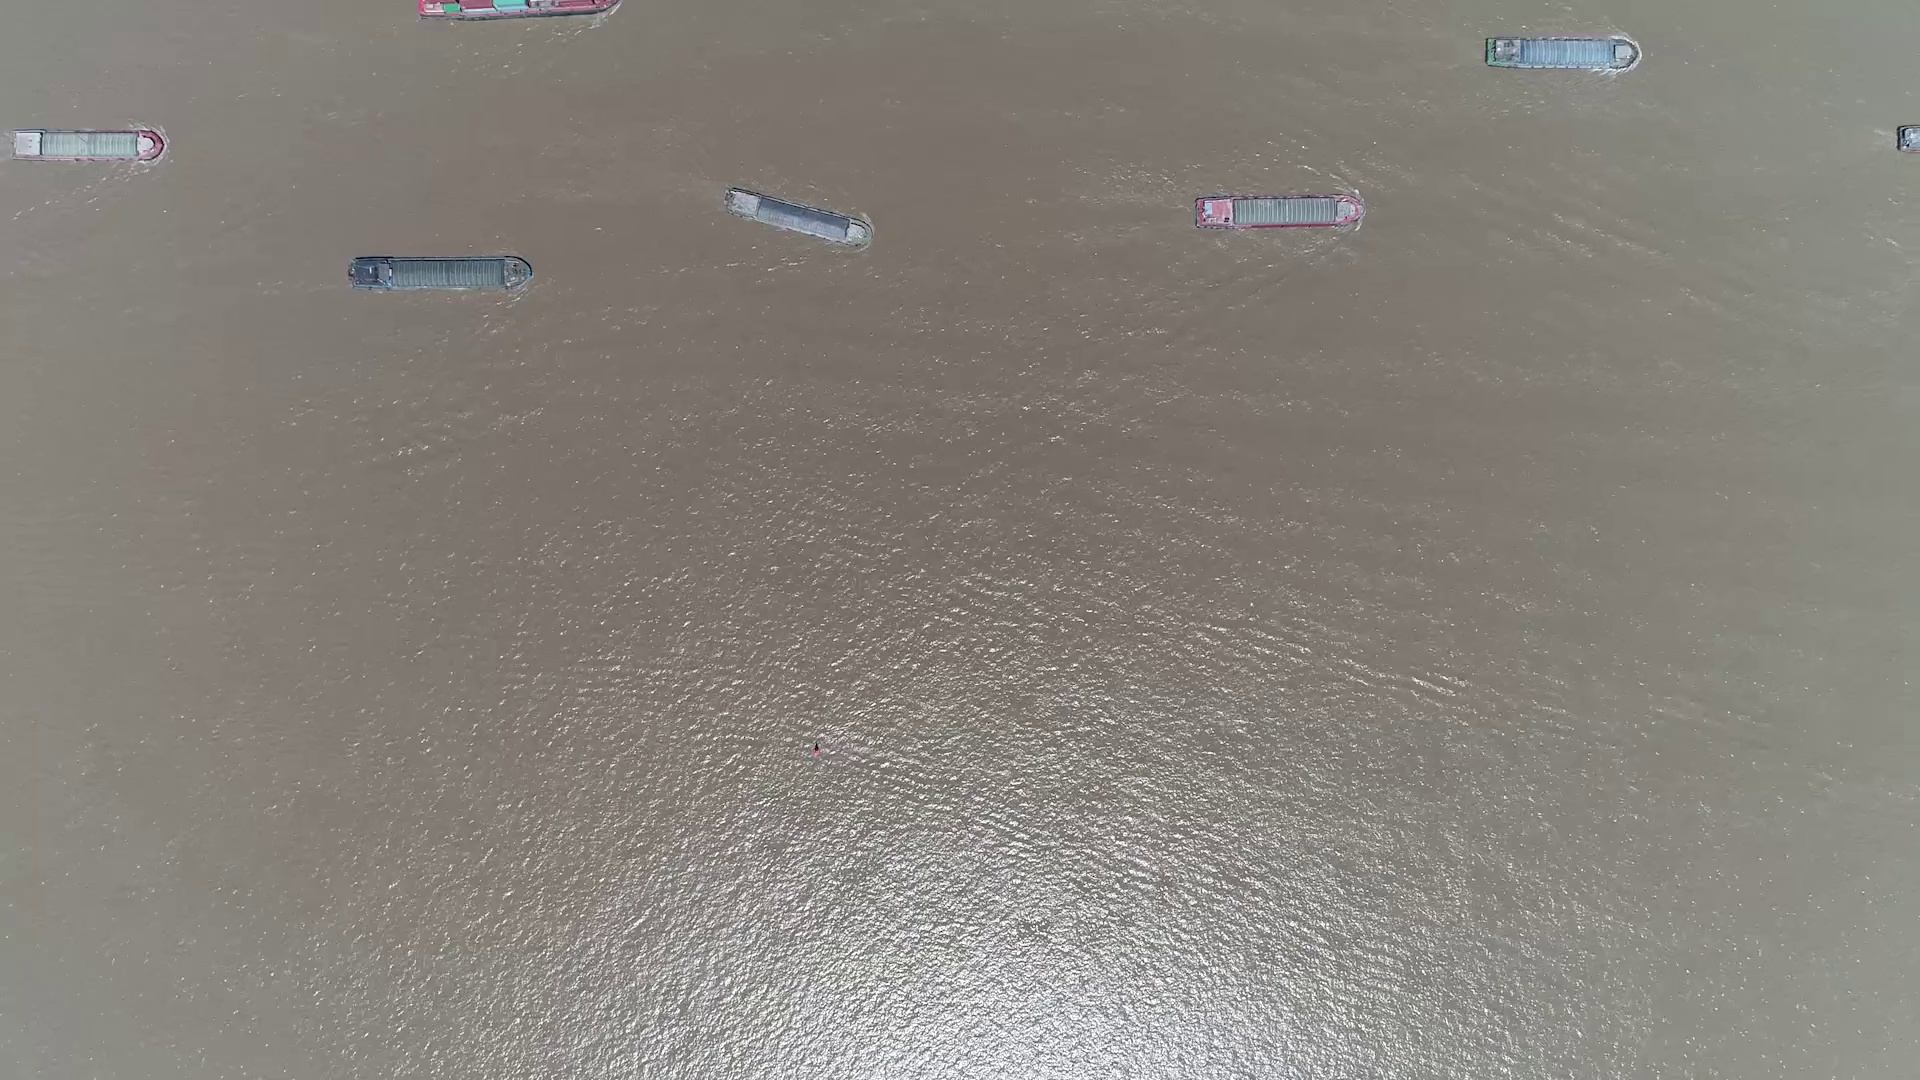ship: (724, 189, 872, 248), (348, 257, 530, 293), (1197, 195, 1364, 229), (1486, 37, 1636, 71), (11, 131, 164, 160), (415, 0, 611, 18)
